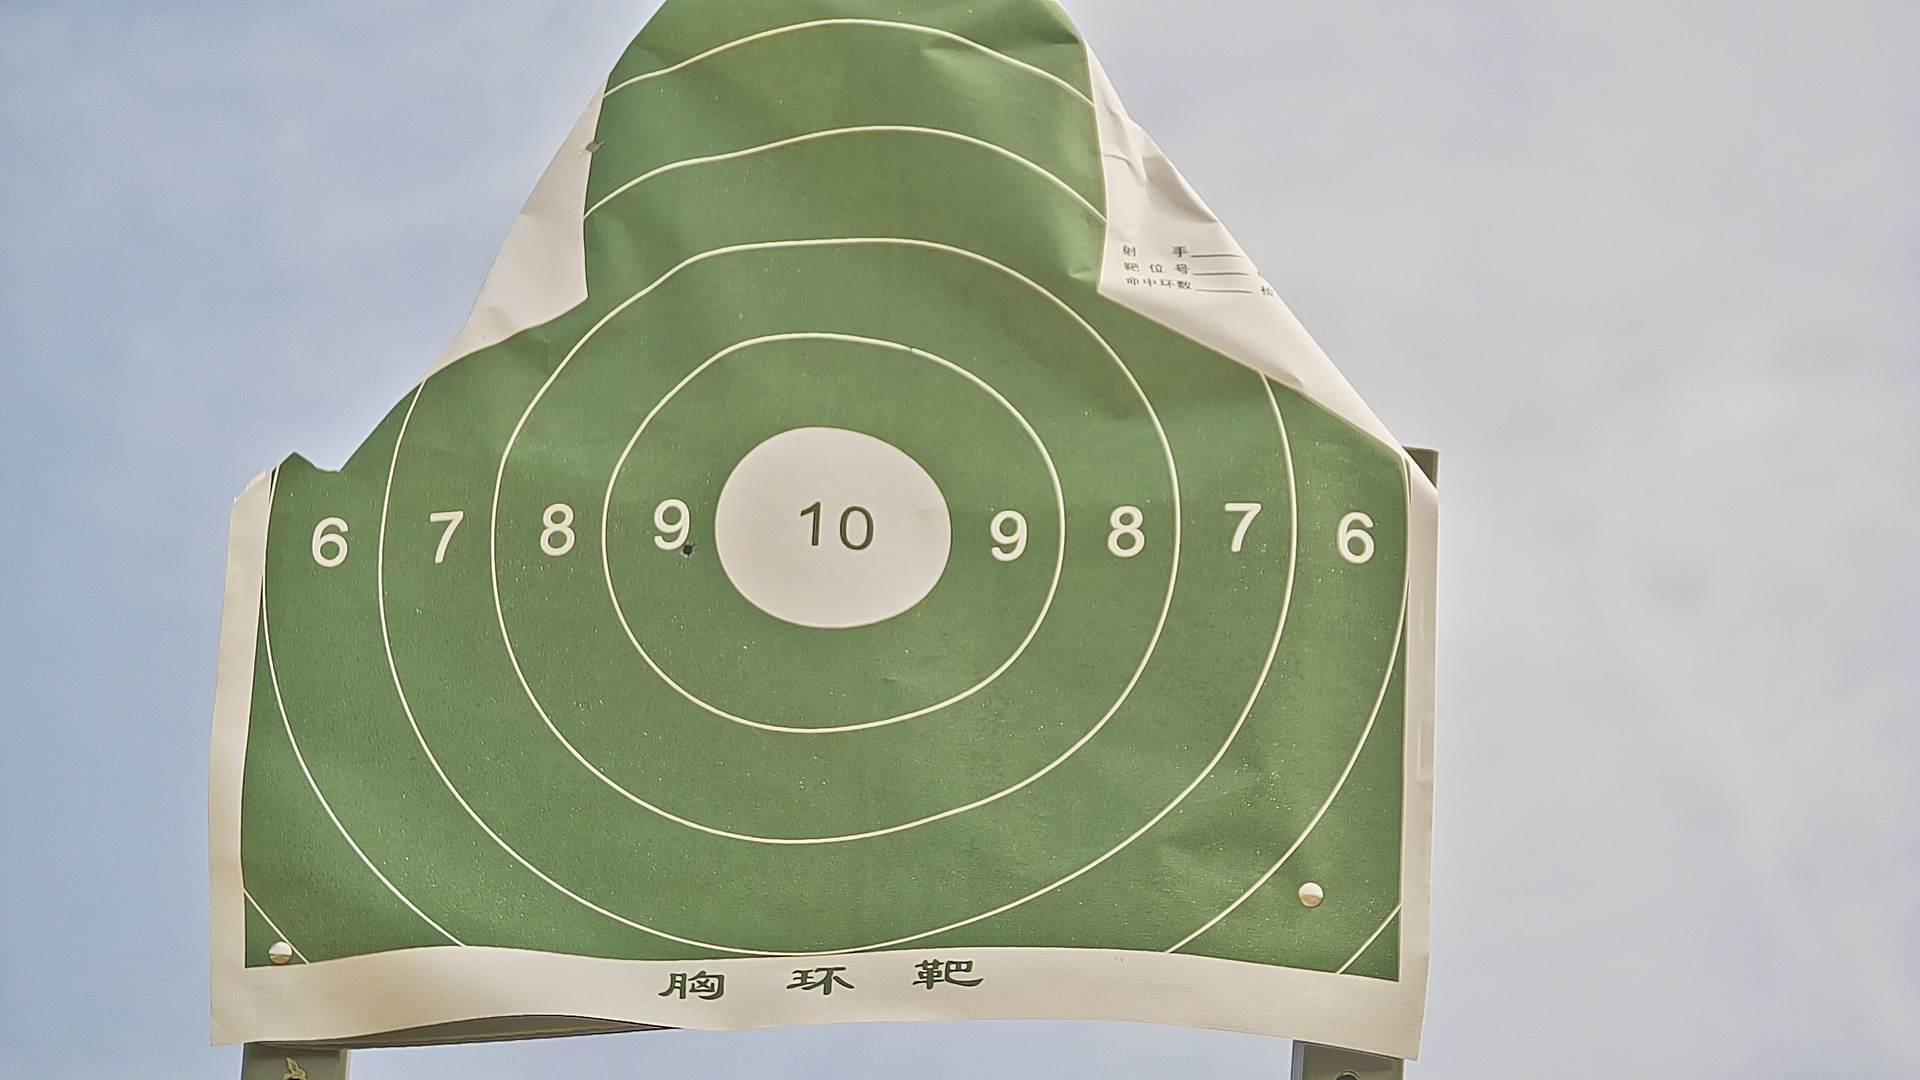hole: (680, 541, 695, 555)
kernel: (828, 526, 833, 534)
target: (236, 1, 1414, 982)
ten: (712, 415, 953, 636)
